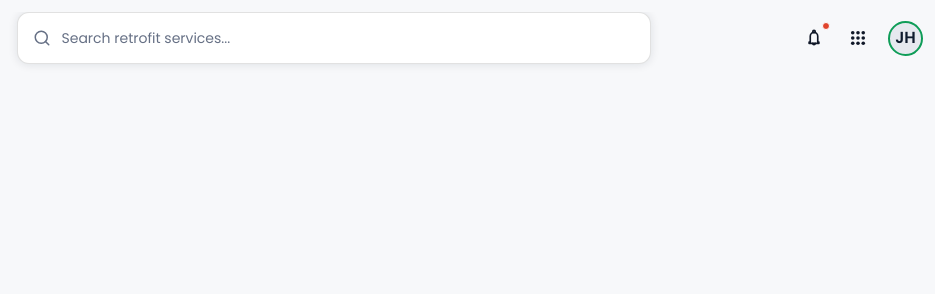
Scenario: Topbar apps menu + avatar › client variant shows the 4 client apps and not the admin-only items
Click the button named "Open apps menu": (858, 38) [836,16,880,60]
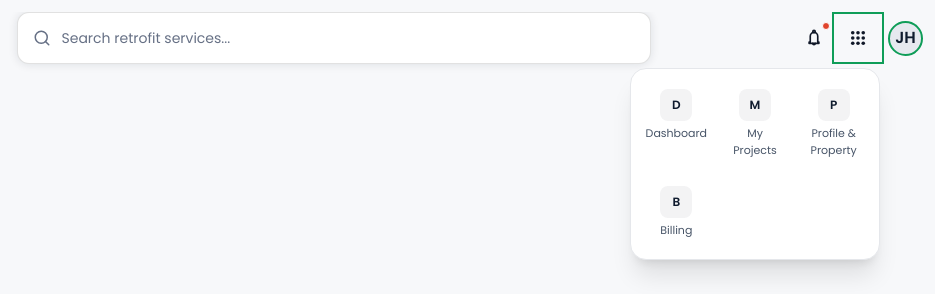
Now the text "Dashboard" is shown, box [646,125,707,142]
Now the text "My Projects" is shown, box [730,125,780,158]
Now the text "Profile & Property" is shown, box [808,125,859,158]
